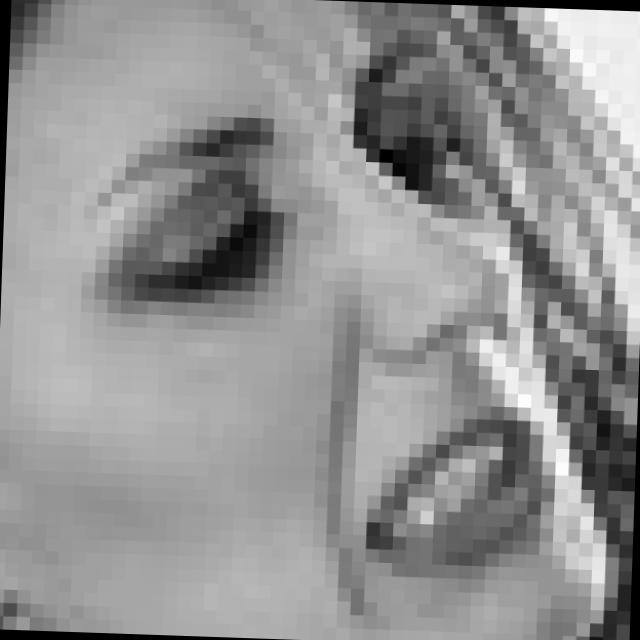disgust: (71, 29, 566, 640)
